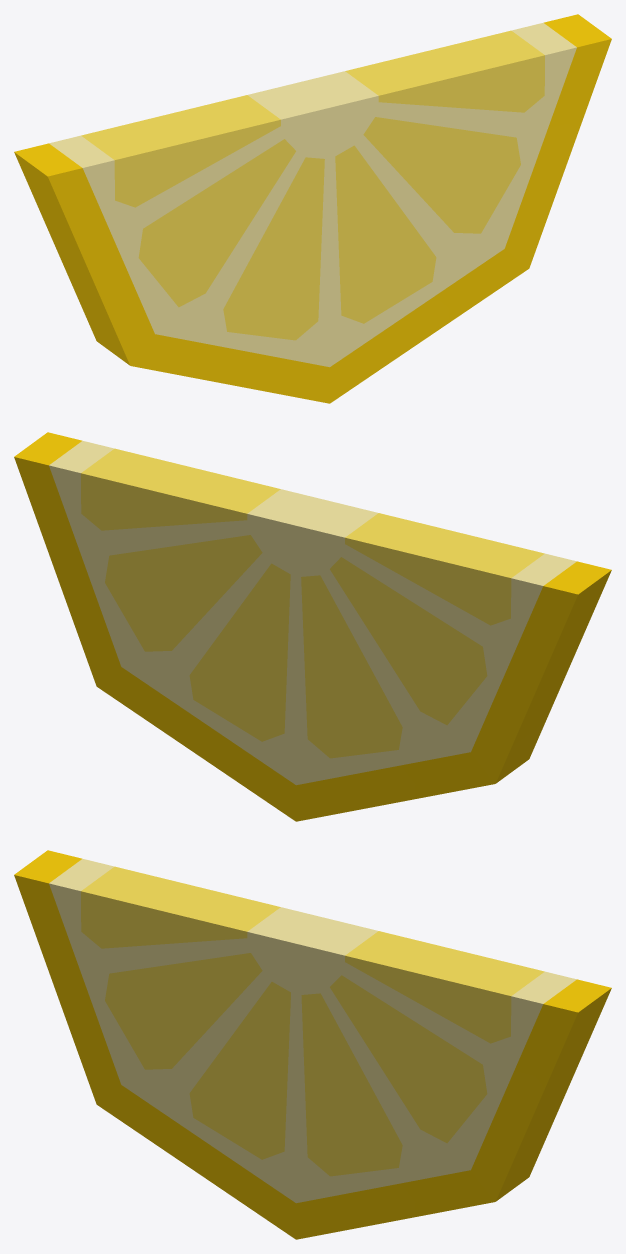
The model's file is lemon slice.obj.
3 views of the same model, one above another, from view 1: azimuth 30°, elevation 25°; view 2: azimuth 150°, elevation 25°; view 3: azimuth 330°, elevation 25° (orthographic).
Parts seen in each view (by area): view 1: lemon slice_0; view 2: lemon slice_0; view 3: lemon slice_0.
Boxes of the visible parts, bbox=[...] form: lemon slice_0: bbox=[14, 14, 611, 403]; lemon slice_0: bbox=[14, 432, 611, 821]; lemon slice_0: bbox=[14, 850, 611, 1239].
Size of the model in its own units: 0.4275 by 0.2143 by 0.0443.
1 material, 1 textured.
